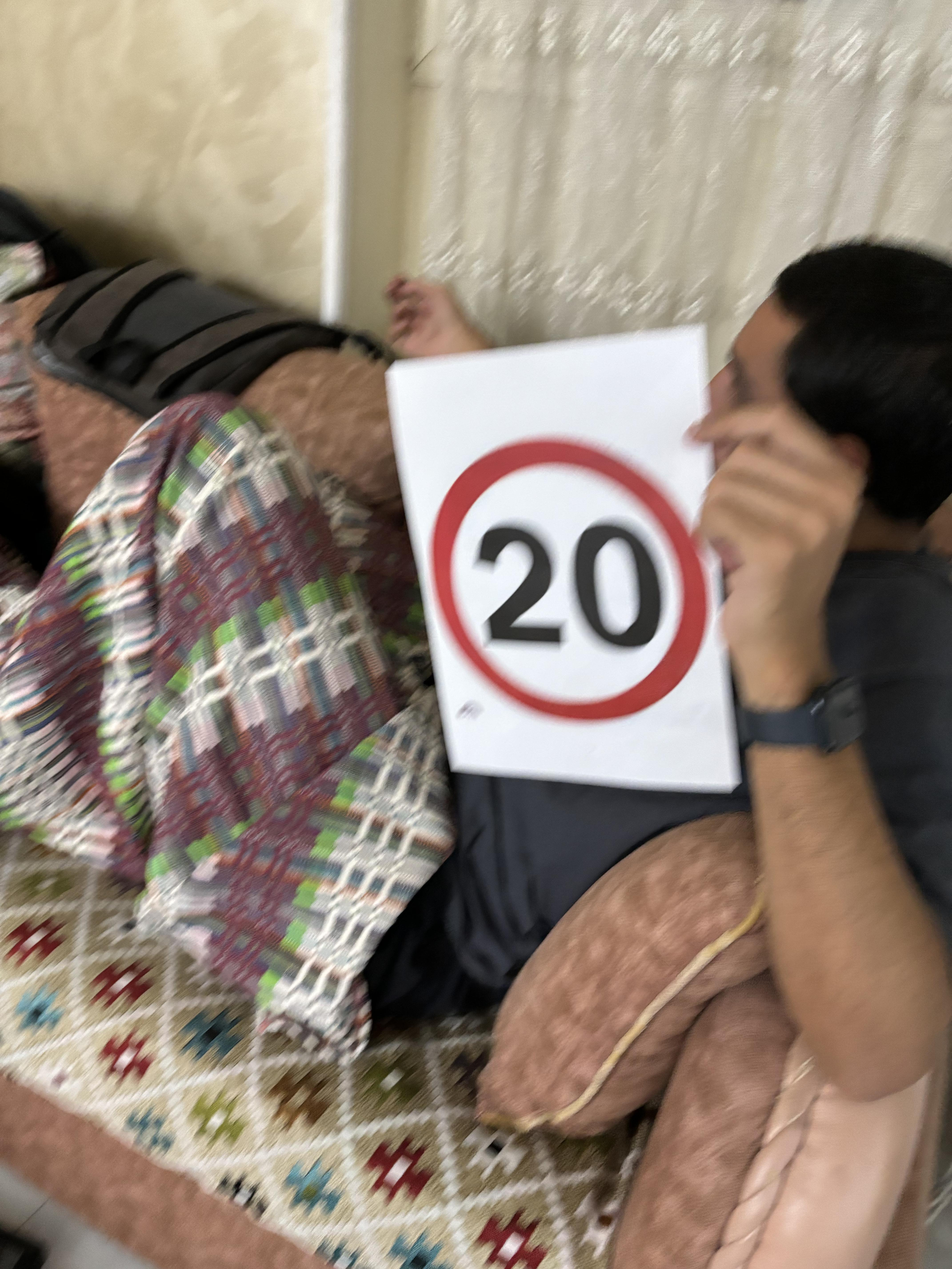20-Speed: (418, 438, 706, 719)
